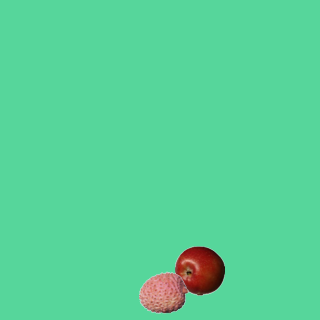Apple Braeburn: (174, 245, 224, 295)
Lychee: (138, 267, 188, 317)
